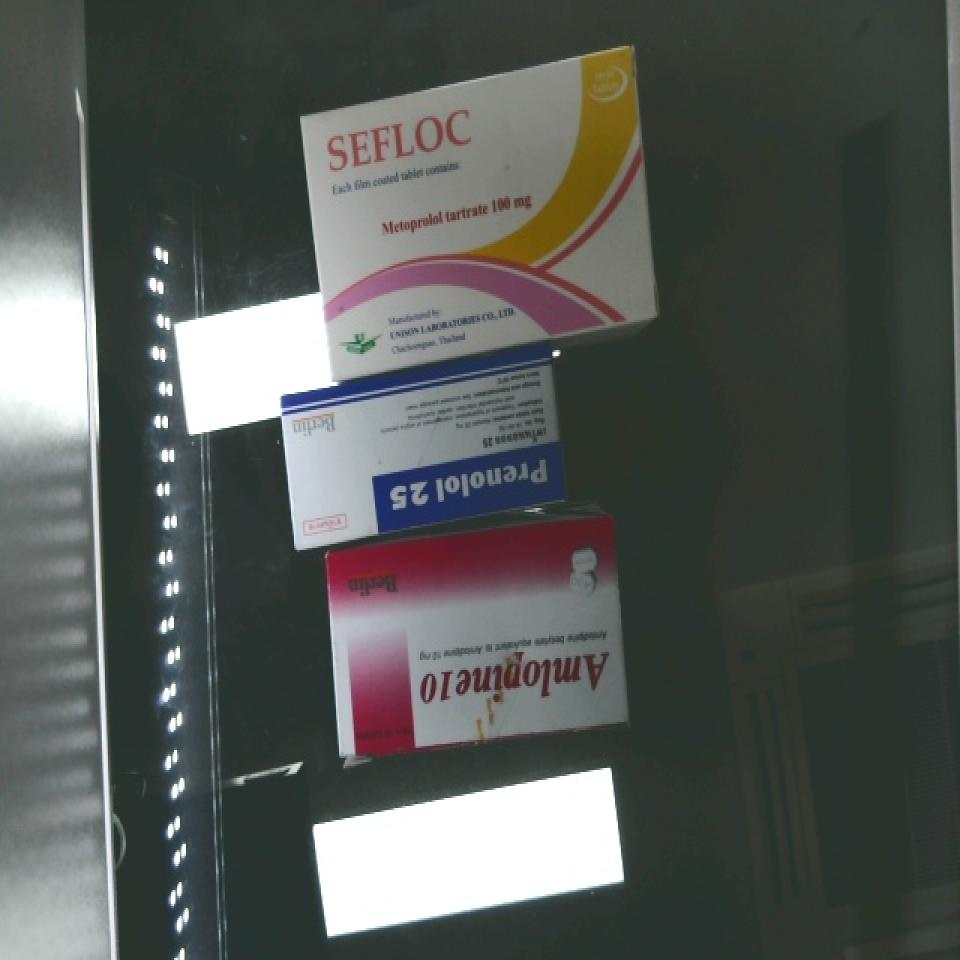medicine_box: (278, 43, 688, 378), (315, 517, 630, 758), (261, 341, 579, 548)
medicine_label_obb: (402, 628, 629, 727), (300, 86, 489, 192), (372, 442, 569, 532)
